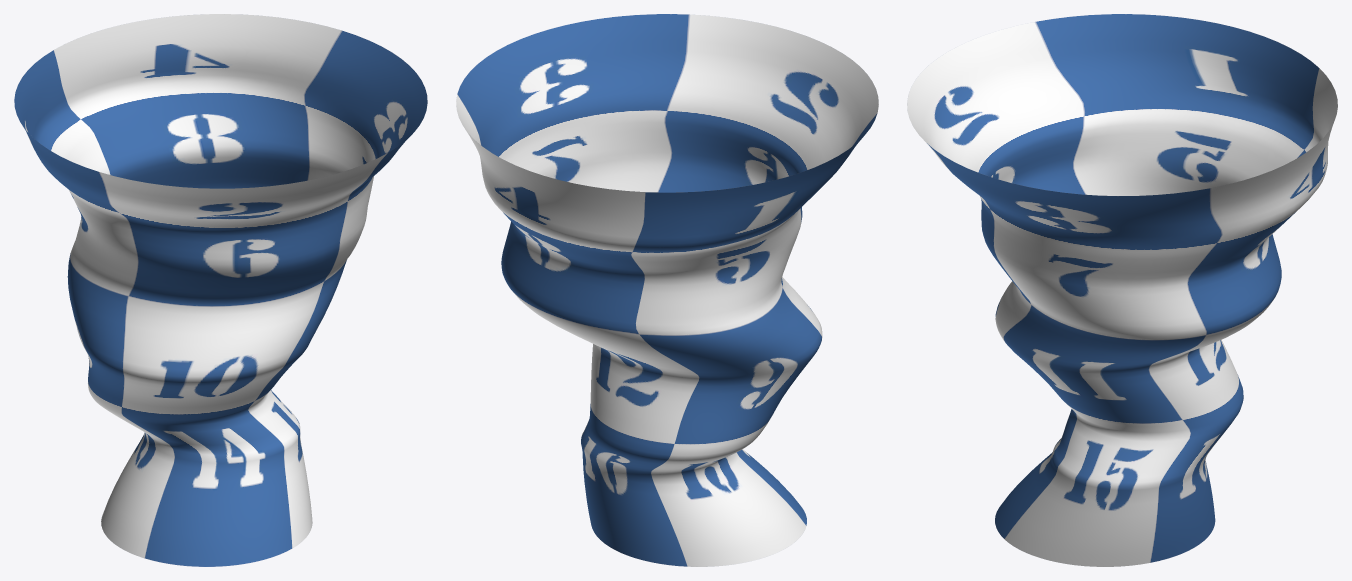
The model's file is Rui_Tornade1.fbx.
3 views of the same model, side by side, from view 1: azimuth 30°, elevation 25°; view 2: azimuth 150°, elevation 25°; view 3: azimuth 270°, elevation 25° (orthographic). The views are drawn at different scales.
Parts seen in each view (by area): view 1: SM_e_DLC_Plc_P1007_Tornade001; view 2: SM_e_DLC_Plc_P1007_Tornade001; view 3: SM_e_DLC_Plc_P1007_Tornade001.
Part boxes in pixels (left/top/right/bottom): SM_e_DLC_Plc_P1007_Tornade001: left=14, top=14, right=427, bottom=566; SM_e_DLC_Plc_P1007_Tornade001: left=456, top=14, right=878, bottom=566; SM_e_DLC_Plc_P1007_Tornade001: left=907, top=14, right=1337, bottom=566.
Size of the model in its own units: 289 by 316 by 289.
1 material, 1 textured.
